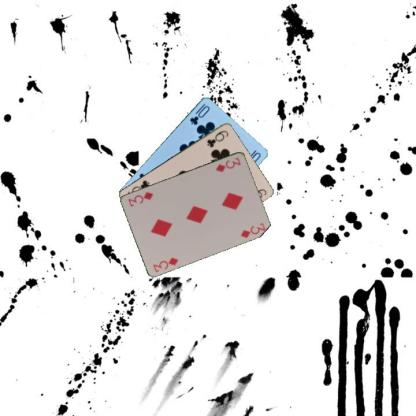10c: (187, 103, 211, 126)
3d: (150, 254, 180, 274), (213, 154, 242, 173)
6c: (204, 127, 230, 148)
